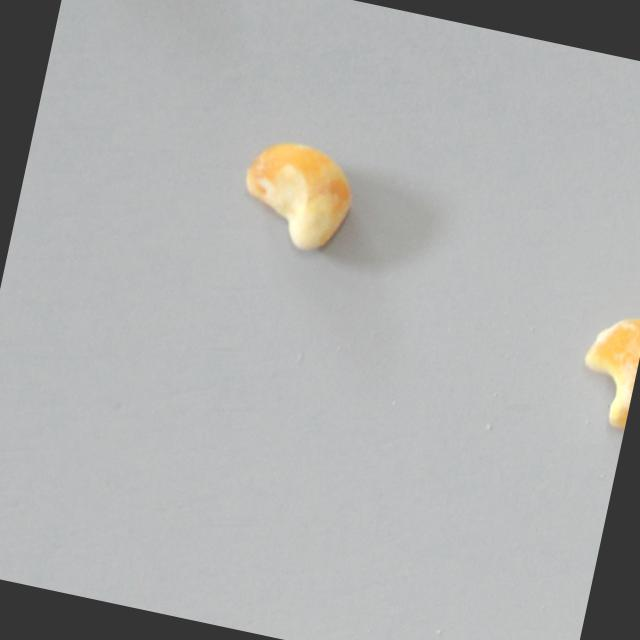pelicula: (235, 132, 364, 258), (573, 308, 640, 429)
